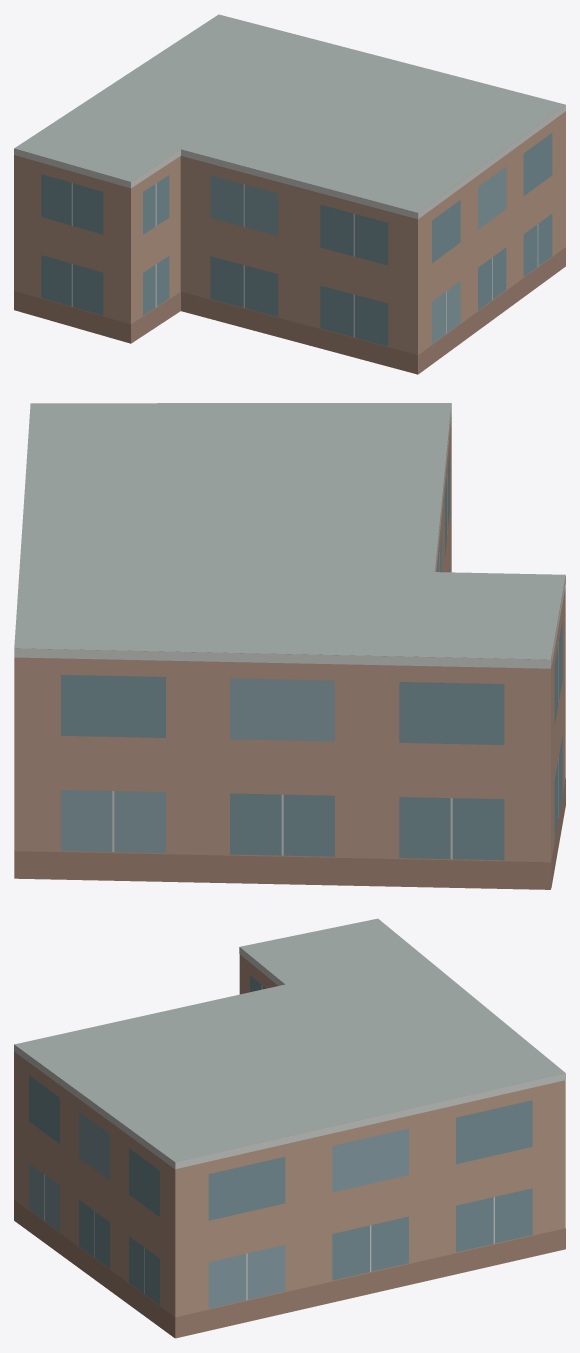
File: survey-upis-32765393.glb
3 views of the same model, one above another, from view 1: azimuth 30°, elevation 25°; view 2: azimuth 150°, elevation 25°; view 3: azimuth 270°, elevation 25° (orthographic). The views are drawn at different scales.
Parts seen in each view (by area): view 1: survey-upis-32765393.tmp; view 2: survey-upis-32765393.tmp; view 3: survey-upis-32765393.tmp.
Boxes of the visible parts, x1,y1,x2,y2 form: survey-upis-32765393.tmp: (14,14,565,374); survey-upis-32765393.tmp: (14,403,565,889); survey-upis-32765393.tmp: (14,918,565,1338).
Bounding box in the file's own units: 18.11 × 6.1 × 17.32.
